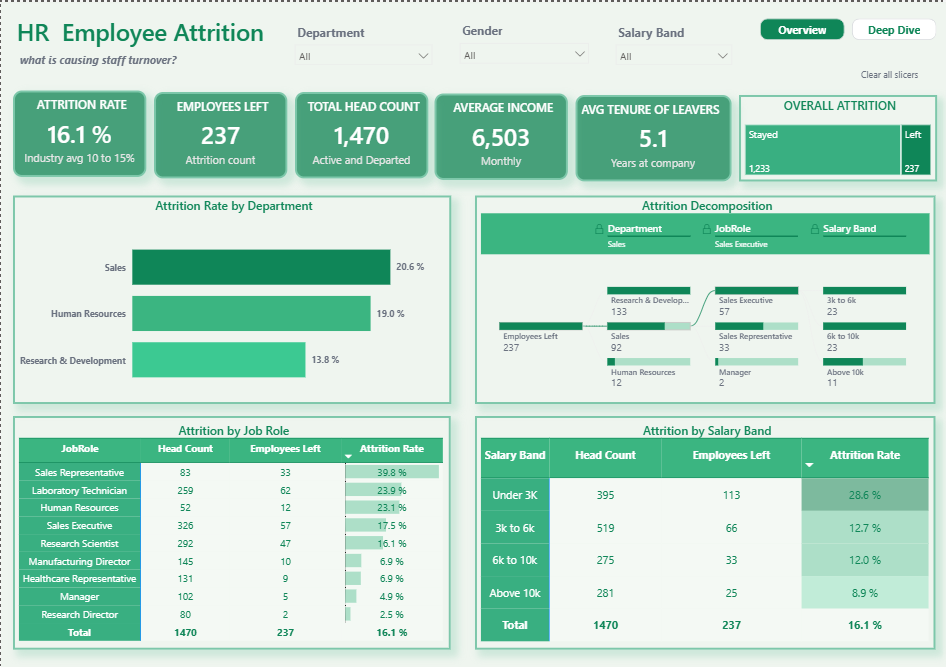

The page's visual inventory and layout, read from the dashboard file:
{"tool":"powerbi","page":{"name":"Overview","canvas":[1280,900],"ordinal":0},"visuals":[{"type":"group","id":"g1","title":"Group 1","box":[16.2,12.1,370.4,89.1],"z":0},{"type":"textbox","box":[16.2,12.1,370.8,57.9],"z":0,"group":"g1"},{"type":"cardVisual","title":"AVG TENURE OF LEAVERS ","fields":{"Data":["hr_employees.Avg Tenure of Leavers"]},"box":[775.5,125.4,210.5,116.6],"z":0,"group":"g3"},{"type":"group","id":"g2","title":"Group 2","box":[386.6,22.3,609.2,81],"z":1000},{"type":"slicer","fields":{"Values":["hr_employees.Department"]},"box":[386.6,24.1,205.6,75.4],"z":1000,"group":"g2"},{"type":"textbox","box":[20.1,62.3,255.8,38.9],"z":1000,"group":"g1"},{"type":"cardVisual","title":"AVERAGE INCOME","fields":{"Data":["hr_employees.Avg Monthly Income"]},"box":[585.7,124.1,180,116.6],"z":1000,"group":"g3"},{"type":"slicer","fields":{"Values":["hr_employees.Gender"]},"box":[608.4,22.3,194.3,77.3],"z":2000,"group":"g2"},{"type":"actionButton","box":[1137.5,78.9,123.1,37.2],"z":2000},{"type":"cardVisual","title":"TOTAL HEAD COUNT","fields":{"Data":["hr_employees.Head Count"]},"box":[395.9,122.8,180,116.6],"z":2000,"group":"g3"},{"type":"pageNavigator","box":[1024.2,22.3,239.6,29.1],"z":3000},{"type":"slicer","fields":{"Values":["hr_employees.Salary Band"]},"box":[818.9,24.1,176.5,79.1],"z":3000,"group":"g2"},{"type":"cardVisual","title":"EMPLOYEES LEFT","fields":{"Data":["hr_employees.Employees Left"]},"box":[206,121.4,180,116.6],"z":3000,"group":"g3"},{"type":"group","id":"g3","title":"Group 3","box":[16.2,120.1,969.8,121.9],"z":4000},{"type":"cardVisual","title":"ATTRITION RATE","fields":{"Data":["hr_employees.Attrition Rate"]},"box":[16.2,120.1,180,116.6],"z":4000,"group":"g3"},{"type":"treemap","title":"OVERALL ATTRITION","fields":{"Values":["hr_employees.Employees Left","hr_employees.Employees Stayed"]},"box":[995.8,125,267.2,116.6],"z":5000},{"type":"barChart","fields":{"Category":["hr_employees.Department"],"Y":["hr_employees.Attrition Rate"]},"box":[16.2,261.1,591,281.3],"z":6000},{"type":"decompositionTreeVisual","title":"Attrition Decomposition","fields":{"Analyze":["hr_employees.Employees Left"],"ExplainBy":["hr_employees.Department","hr_employees.JobRole","hr_employees.Salary Band"]},"box":[639.6,261.1,621.4,281.3],"z":7000},{"type":"pivotTable","title":"Attrition by Job Role","fields":{"Rows":["hr_employees.JobRole"],"Values":["hr_employees.Head Count","hr_employees.Employees Left","hr_employees.Attrition Rate"]},"box":[16.2,558.6,590.7,315.4],"z":8000},{"type":"pivotTable","title":"Attrition by Salary Band","fields":{"Rows":["hr_employees.Salary Band"],"Values":["hr_employees.Head Count","hr_employees.Employees Left","hr_employees.Attrition Rate"]},"box":[640,559,621,315],"z":9000}]}

Visuals, with their boxes in screenshot pixels (x1, y1, x2, y2), scaled from the page's 1280x900 canvas onto the 946x667 screenshot:
"Group 1" group: [12,9,286,75]
textbox: [12,9,286,52]
"AVG TENURE OF LEAVERS " cardVisual: [573,93,729,179]
"Group 2" group: [286,17,736,77]
slicer - hr_employees.Department: [286,18,438,74]
textbox: [15,46,204,75]
"AVERAGE INCOME" cardVisual: [433,92,566,178]
slicer - hr_employees.Gender: [450,17,593,74]
actionButton: [841,58,932,86]
"TOTAL HEAD COUNT" cardVisual: [293,91,426,177]
pageNavigator: [757,17,934,38]
slicer - hr_employees.Salary Band: [605,18,736,76]
"EMPLOYEES LEFT" cardVisual: [152,90,285,176]
"Group 3" group: [12,89,729,179]
"ATTRITION RATE" cardVisual: [12,89,145,175]
"OVERALL ATTRITION" treemap: [736,93,933,179]
barChart - hr_employees.Department x hr_employees.Attrition Rate: [12,194,449,402]
"Attrition Decomposition" decompositionTreeVisual: [473,194,932,402]
"Attrition by Job Role" pivotTable: [12,414,449,648]
"Attrition by Salary Band" pivotTable: [473,414,932,648]
